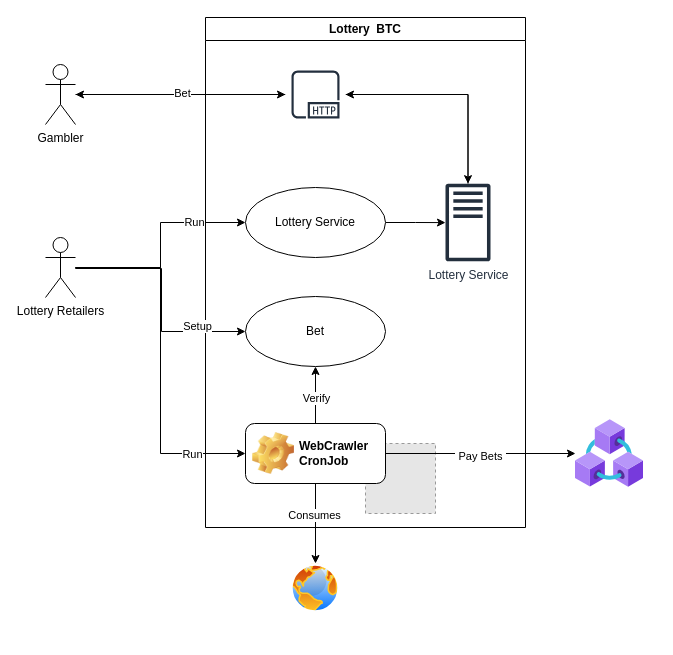
Image size: 673x655. Some labels were removed from this diagram. Grey dashed boxes stand in for pictures. The shapes that lost their labels are listed below. From the top down, each one's centre as x and y in pixels, then its label:
the point at 315,94: HTTP protocol
the point at 609,453: Blockchain
the point at 315,588: Worldwide Internet
